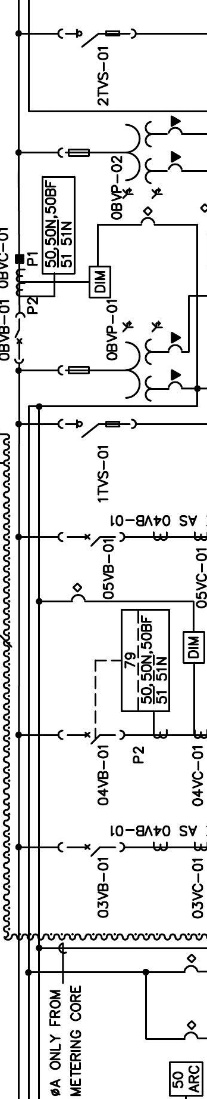22_breaker: (57, 842, 125, 858), (57, 730, 125, 745), (57, 532, 125, 547), (14, 312, 26, 365)
22_ds: (57, 418, 137, 439), (57, 27, 137, 48)
22_vt_3p: (56, 119, 185, 207), (57, 320, 183, 402)
DIM: (182, 631, 205, 664), (88, 266, 111, 299)
